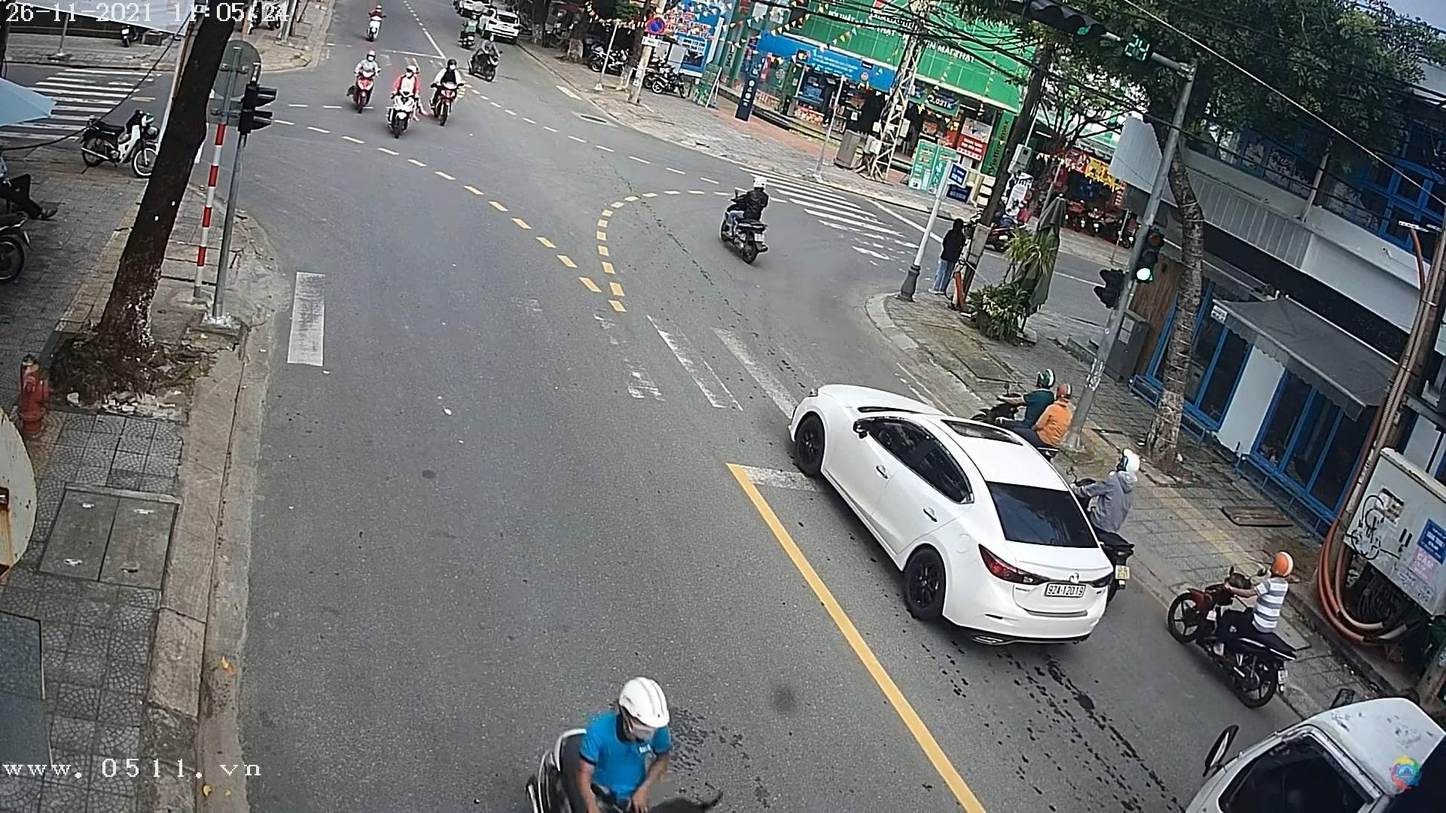car: (792, 382, 1138, 649), (1188, 698, 1446, 813)
motorbike: (1166, 563, 1296, 711), (724, 220, 771, 266), (383, 89, 415, 143), (351, 68, 381, 119), (468, 44, 502, 82)
